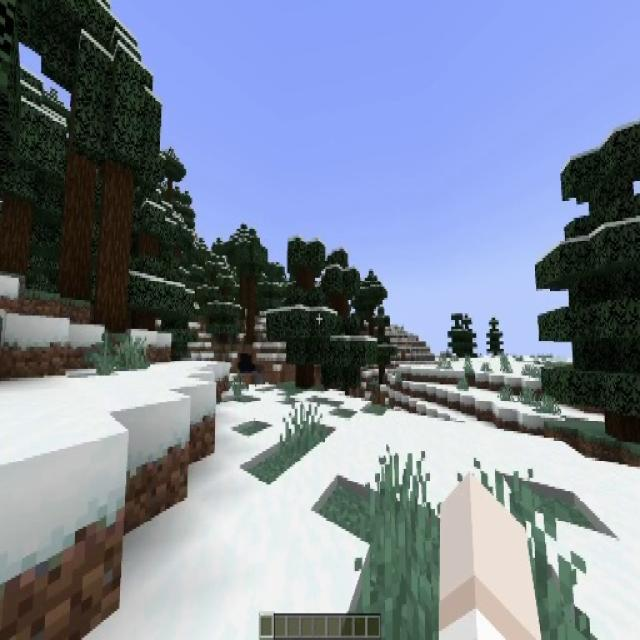spruce: (536, 122, 640, 444), (72, 16, 166, 328), (36, 0, 128, 302), (272, 235, 333, 388), (228, 220, 268, 343), (367, 305, 396, 385), (447, 312, 478, 361), (487, 318, 503, 358)
spruce_log: (64, 132, 93, 299), (102, 180, 130, 327), (0, 196, 31, 279), (604, 411, 640, 445), (241, 267, 255, 343), (296, 364, 314, 388), (379, 364, 385, 384)
